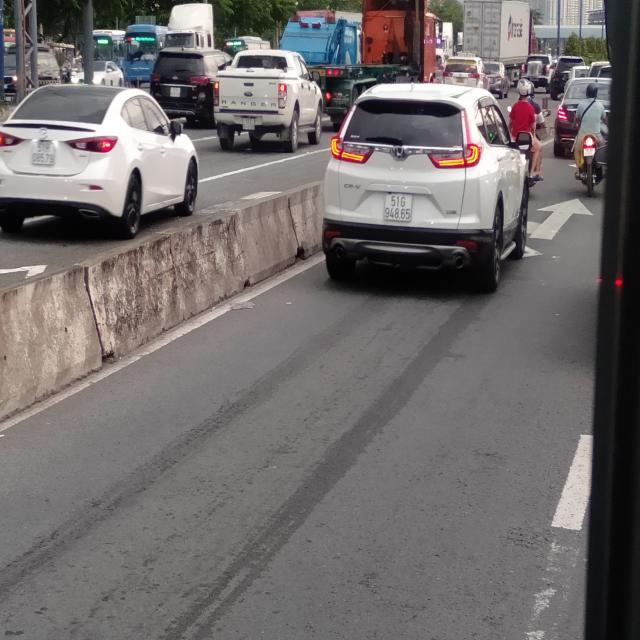bien_trang: (385, 191, 412, 227), (31, 141, 56, 163), (243, 116, 256, 132)
